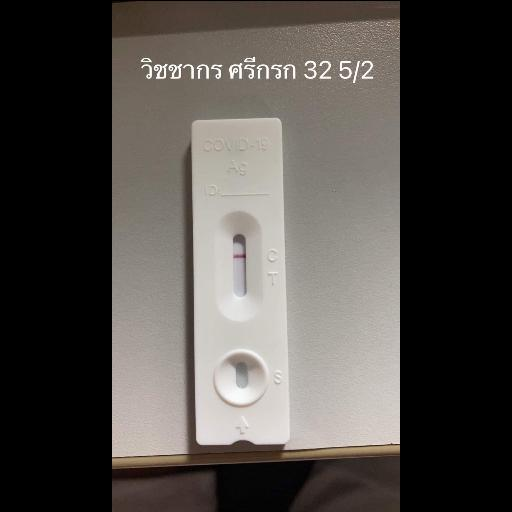Neg: (188, 116, 286, 444)
